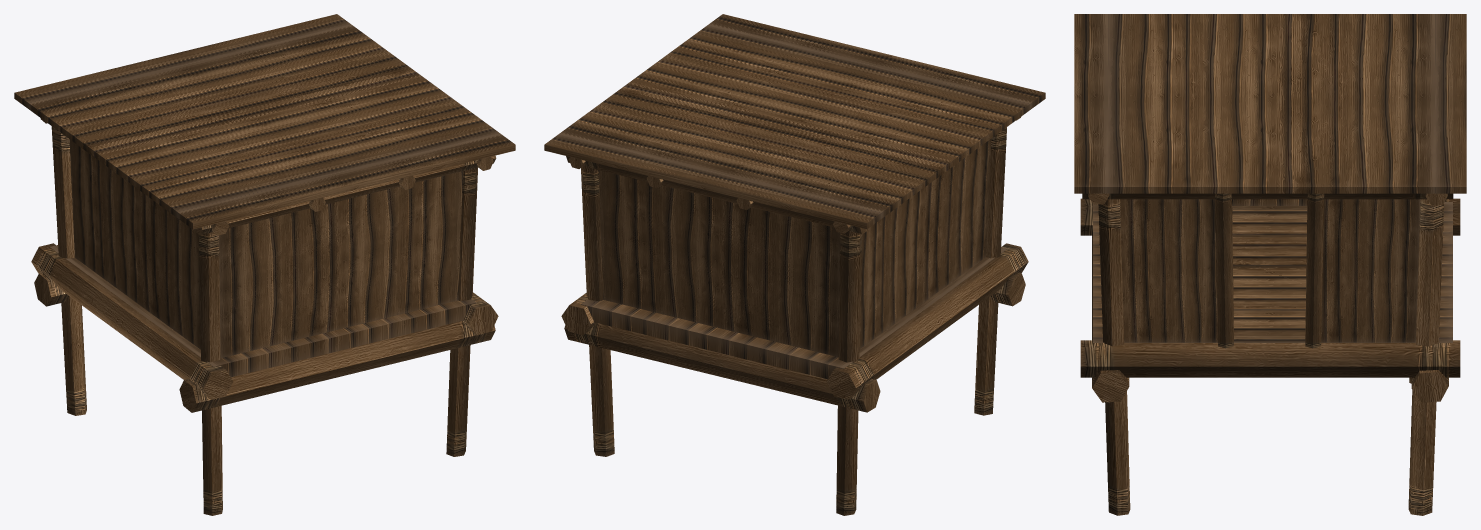
The model's file is p2_shack3.fbx.
3 views of the same model, side by side, from view 1: azimuth 30°, elevation 25°; view 2: azimuth 150°, elevation 25°; view 3: azimuth 270°, elevation 25° (orthographic). The views are drawn at different scales.
Parts seen in each view (by area): view 1: p2_shack3_LOD0; view 2: p2_shack3_LOD0; view 3: p2_shack3_LOD0.
Boxes of the visible parts, left/top/right/bottom form: p2_shack3_LOD0: left=14, top=14, right=515, bottom=515; p2_shack3_LOD0: left=544, top=14, right=1045, bottom=515; p2_shack3_LOD0: left=1074, top=14, right=1466, bottom=515.
Size of what is drawn, in the model's own units: 468 by 435 by 448.
